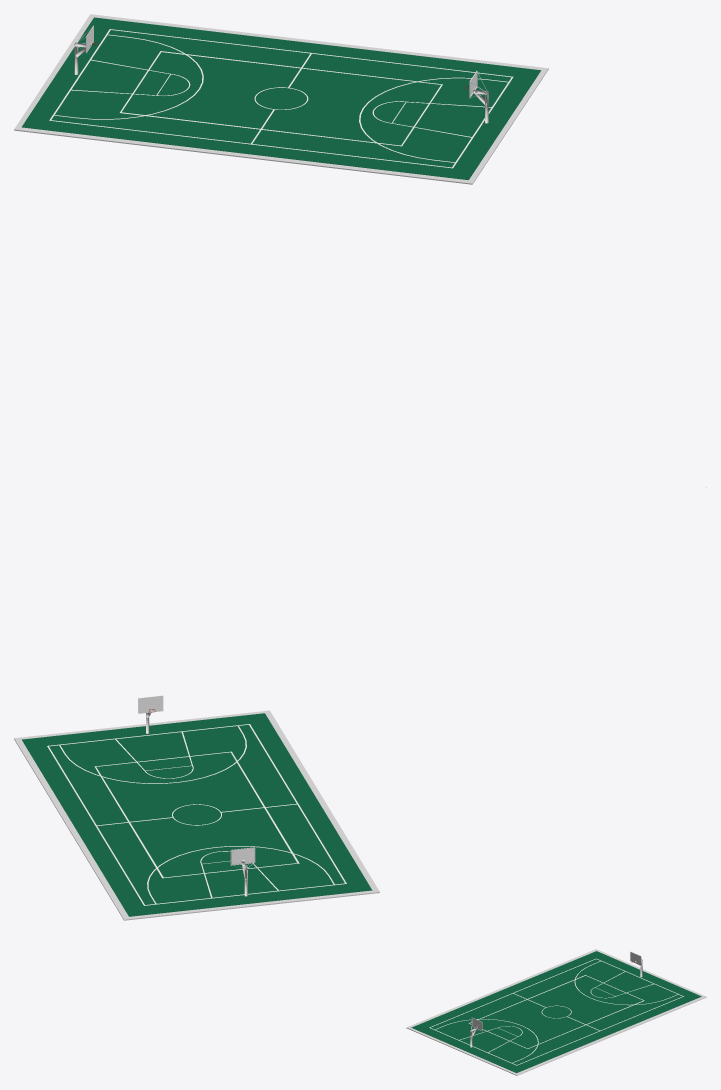
The model's file is cancha.glb.
3 views of the same model, one above another, from view 1: azimuth 30°, elevation 25°; view 2: azimuth 150°, elevation 25°; view 3: azimuth 270°, elevation 25° (orthographic). The views are drawn at different scales.
Parts seen in each view (by area): view 1: Plane.007, Plane.004, Cube.050, Cube.047; view 2: Plane.007, Plane.004, Cube.050, Cube.047; view 3: Plane.007, Plane.004, Cube.050, Cube.047.
Part boxes in pixels (x1=…): Plane.007: x1=22, y1=17, x2=540, y2=179; Plane.004: x1=14, y1=14, x2=548, y2=184; Cube.050: x1=49, y1=29, x2=513, y2=168; Cube.047: x1=121, y1=51, x2=442, y2=146; Plane.007: x1=22, y1=713, x2=372, y2=916; Plane.004: x1=14, y1=710, x2=379, y2=920; Cube.050: x1=47, y1=724, x2=346, y2=905; Cube.047: x1=94, y1=751, x2=299, y2=878; Plane.007: x1=411, y1=951, x2=701, y2=1073; Plane.004: x1=406, y1=949, x2=706, y2=1075; Cube.050: x1=429, y1=958, x2=683, y2=1065; Cube.047: x1=469, y1=975, x2=644, y2=1048.
Bounding box in the file's own units: 466 × 44.43 × 1080.
